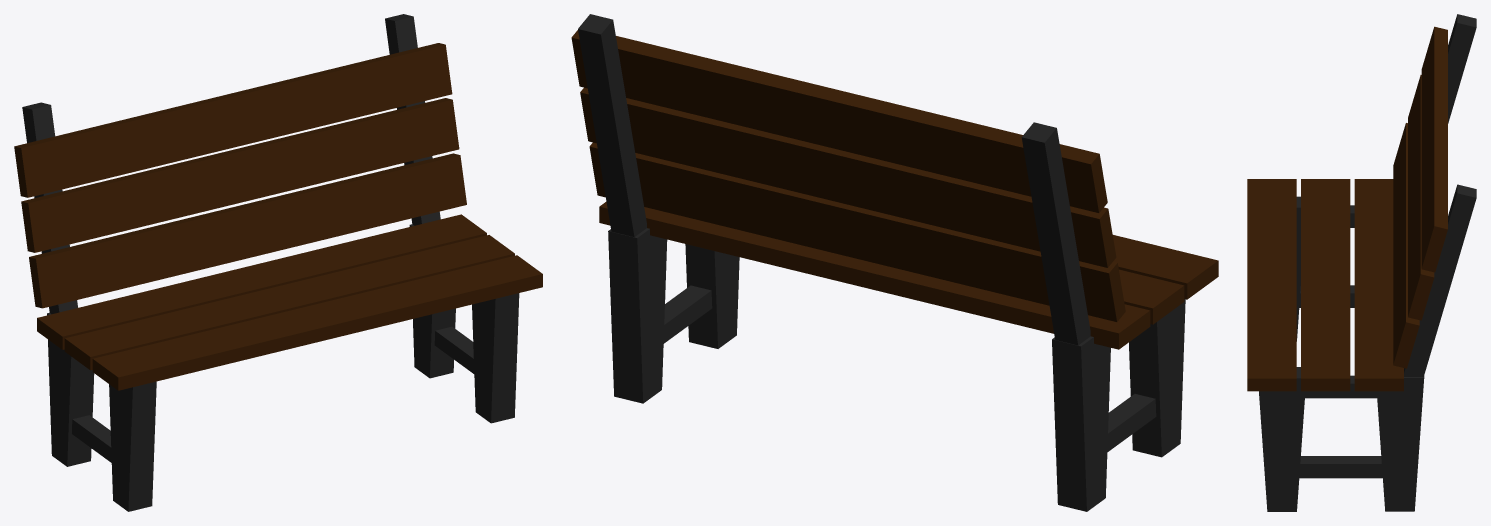
Rendered from Becnh_Model.FBX.
3 views of the same model, side by side, from view 1: azimuth 30°, elevation 25°; view 2: azimuth 150°, elevation 25°; view 3: azimuth 270°, elevation 25° (orthographic). The views are drawn at different scales.
Visible parts, largest first — view 1: bench_Model; view 2: bench_Model; view 3: bench_Model.
Boxes of the visible parts, x1,y1,x2,y2 form: bench_Model: (14, 14, 542, 511); bench_Model: (571, 14, 1218, 511); bench_Model: (1247, 14, 1476, 511).
Size of the model in its own units: 202 by 150 by 98.34.
